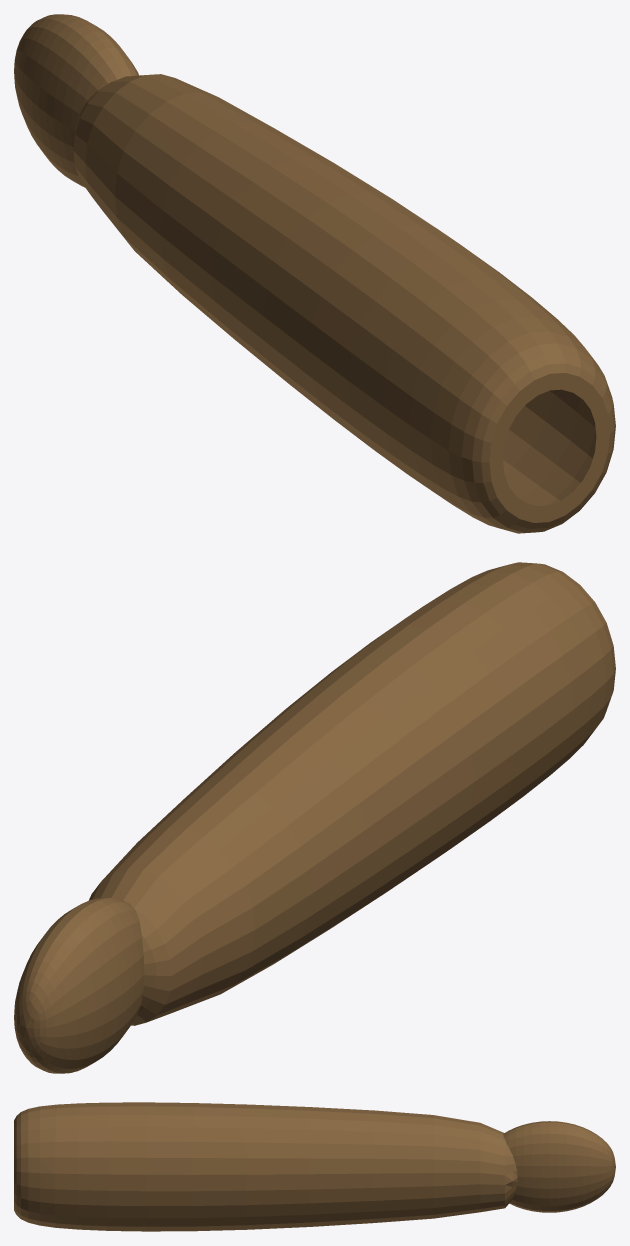
File: RWsegment_joint_visu.dae
3 views of the same model, one above another, from view 1: azimuth 30°, elevation 25°; view 2: azimuth 150°, elevation 25°; view 3: azimuth 270°, elevation 25° (orthographic). The views are drawn at different scales.
Parts seen in each view (by area): view 1: node; view 2: node; view 3: node.
Part boxes in pixels (x1,y1,x2,y2): node: [14, 14, 615, 533]; node: [14, 562, 615, 1073]; node: [14, 1102, 615, 1231].
Bounding box in the file's own units: 0.029 × 0.034 × 0.153.
